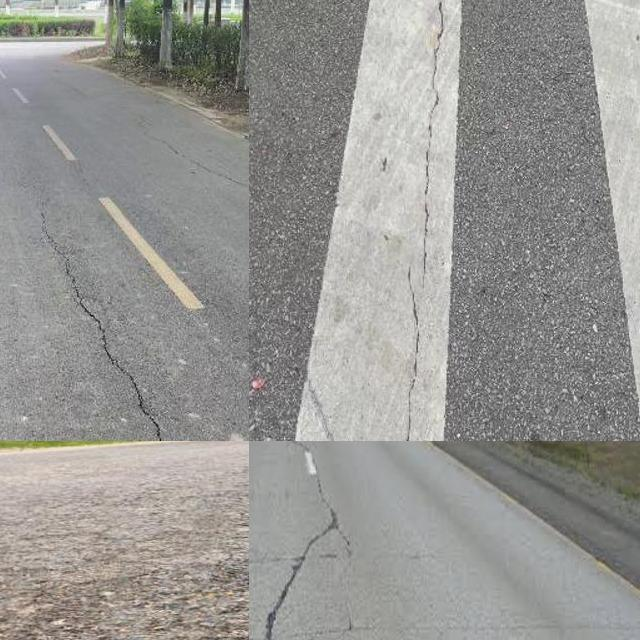Memanjang: (26, 196, 169, 441), (387, 0, 463, 441), (261, 441, 410, 640)
